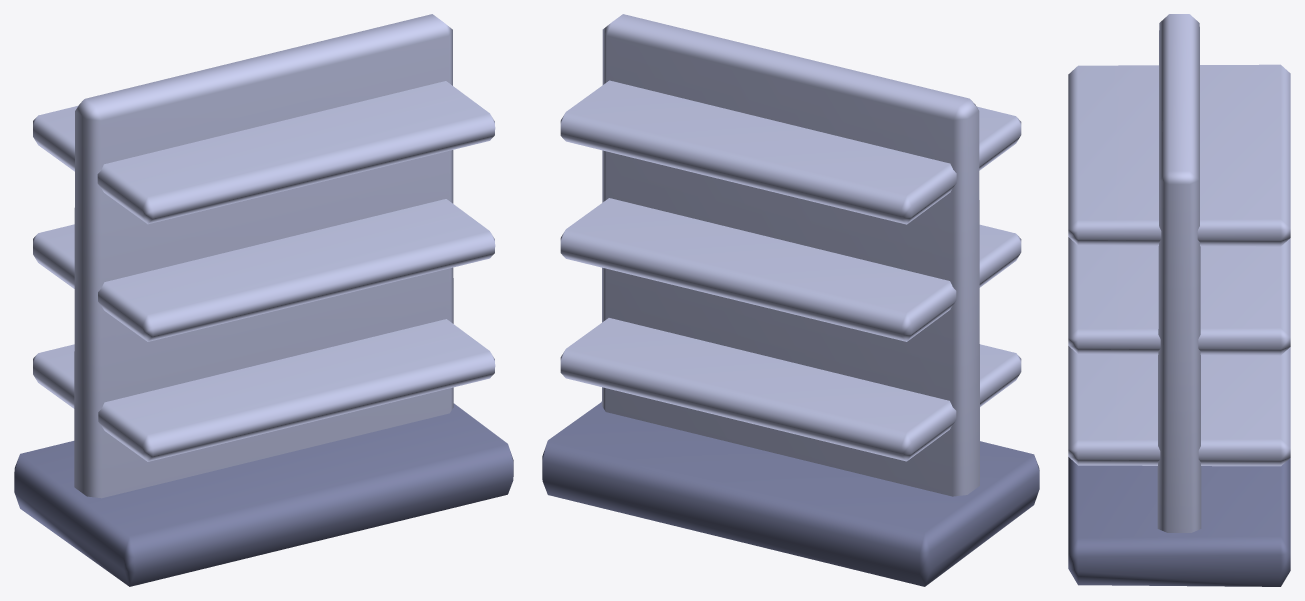
File: Shelf_04.fbx
3 renders of one model, left to right at view 1: azimuth 30°, elevation 25°; view 2: azimuth 150°, elevation 25°; view 3: azimuth 270°, elevation 25°, orthographic. The views are drawn at different scales.
Visible parts, largest first — view 1: Shelf_04; view 2: Shelf_04; view 3: Shelf_04.
Boxes of the visible parts, <box> form: Shelf_04: <box>14,14,513,586</box>; Shelf_04: <box>542,14,1039,586</box>; Shelf_04: <box>1068,14,1290,586</box>.
Size of the model in its own units: 163 by 176 by 86.88.
